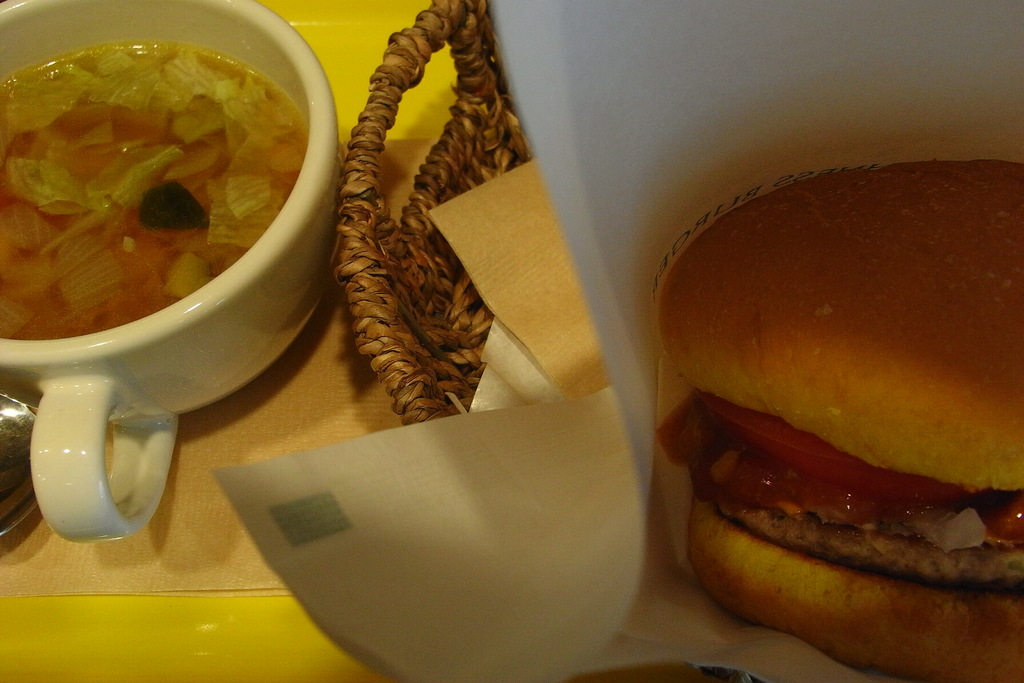Hamburger: (656, 157, 1023, 682)
